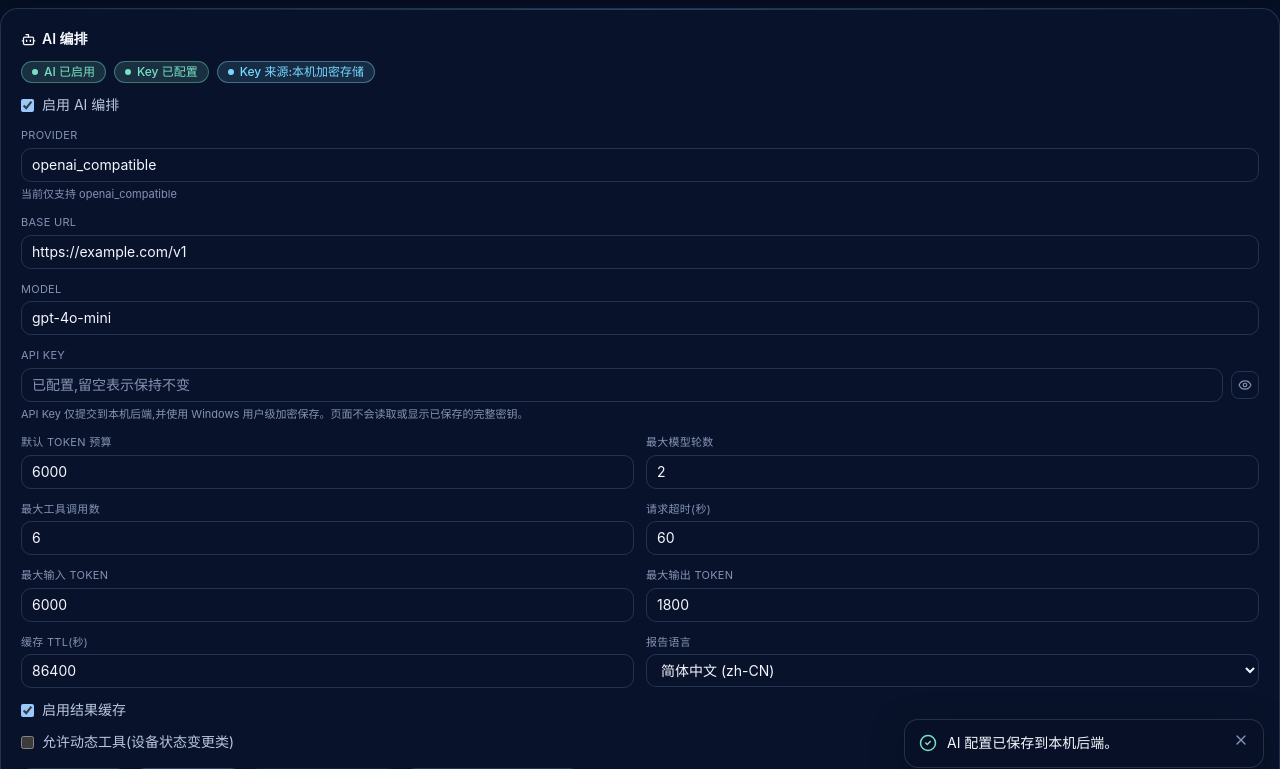
Scenario: M6B — AI 配置表单 › API Key 绝不写入浏览器持久化存储
(page scrolled)
Expected: the element with test id "ai-settings-summary" is shown, [21,61,375,83]
Type "sk-frontend-never-persist-0001" into the password field labelled "API Key". click: (622, 384)
box: [21,368,1223,402]
(page scrolled)
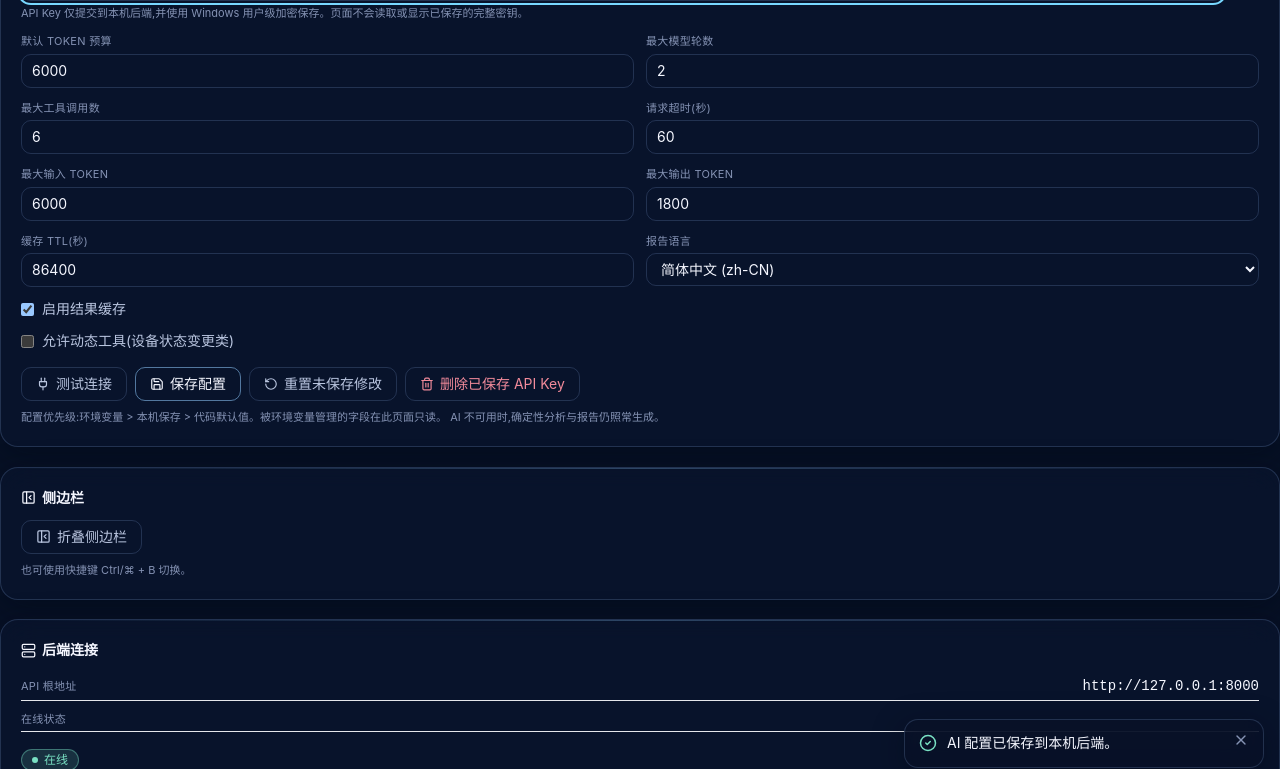
Click the button with test id "ai-settings-save". click: (188, 384)
box: [135,367,241,401]
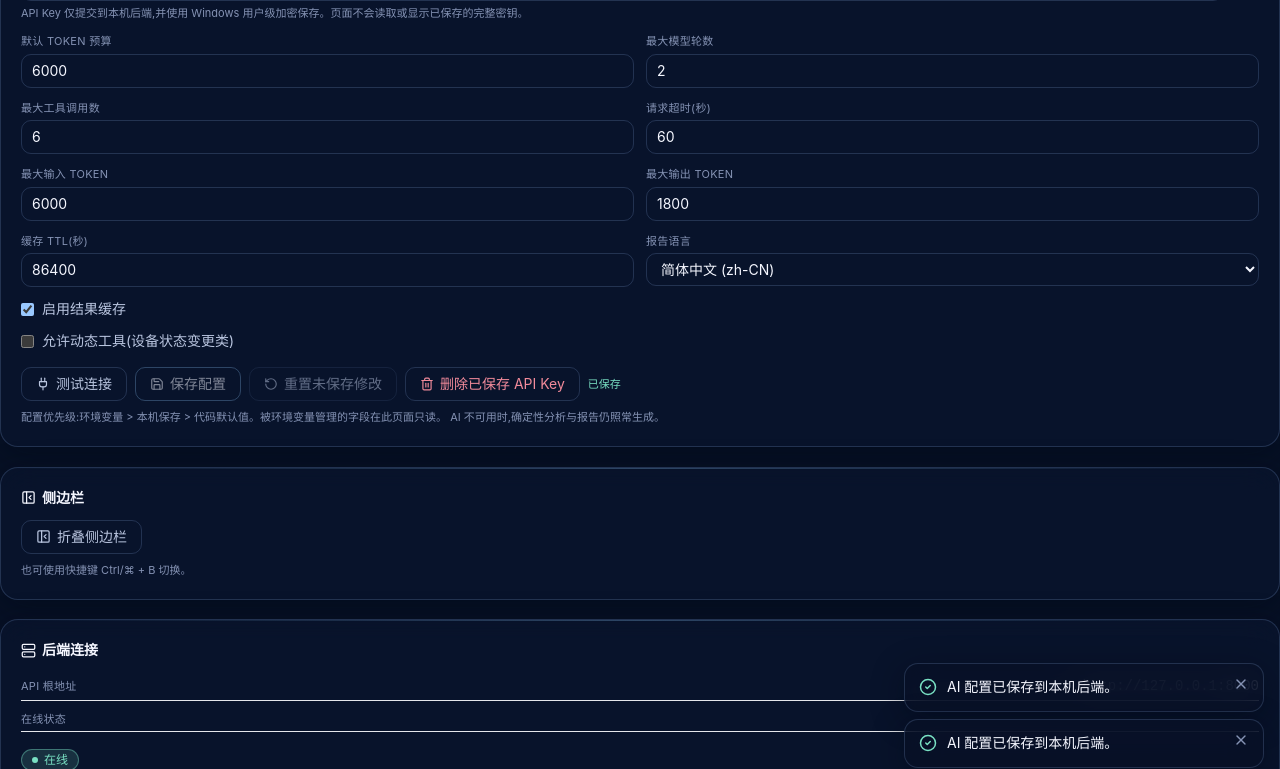
Expected: the text "已保存" is shown, [588,376,621,392]
